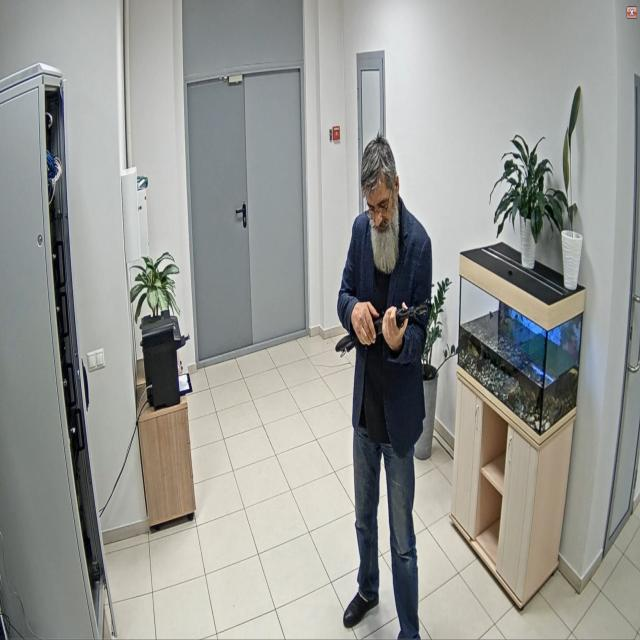-Gun: (335, 299, 431, 360)
